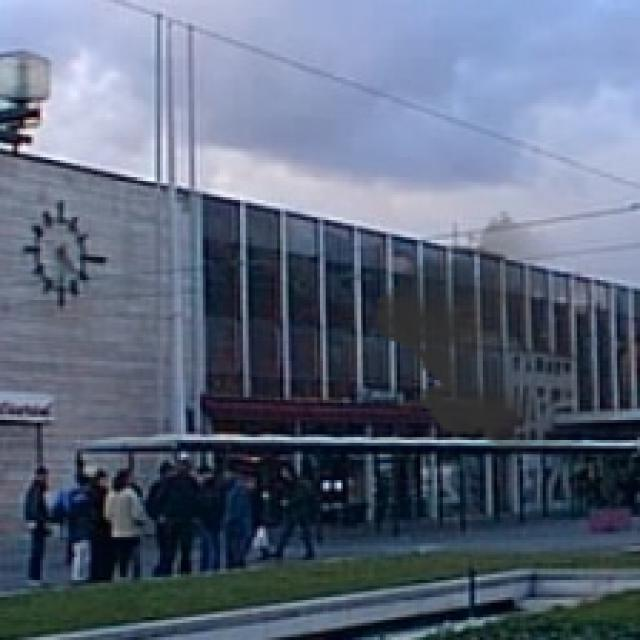smoke: (363, 209, 631, 457)
